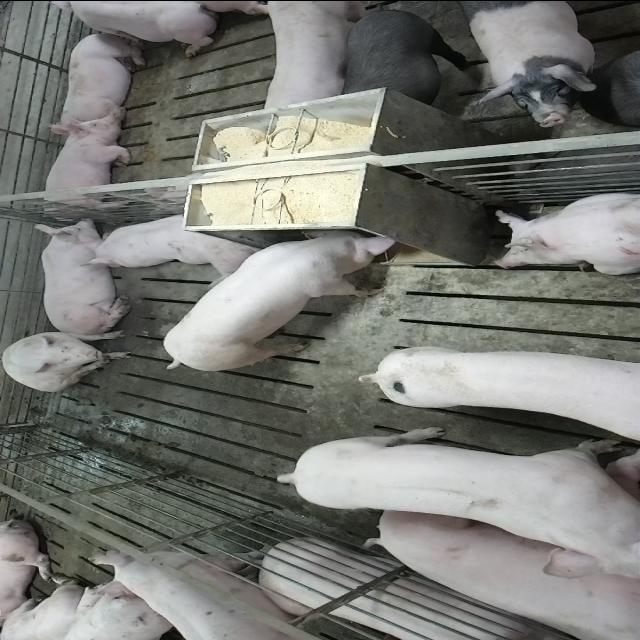Feeding: (162, 229, 402, 375)
Lateral_lying: (370, 513, 640, 640)
Sitting: (2, 328, 136, 391)
Standing: (274, 427, 636, 577), (366, 343, 640, 437), (92, 548, 330, 640), (466, 2, 602, 128), (336, 2, 474, 110), (256, 2, 370, 120), (609, 36, 640, 126)
Sternal_lying: (489, 190, 640, 274), (82, 209, 264, 271), (33, 220, 131, 328), (52, 28, 150, 128), (36, 116, 134, 216), (33, 3, 221, 55)
